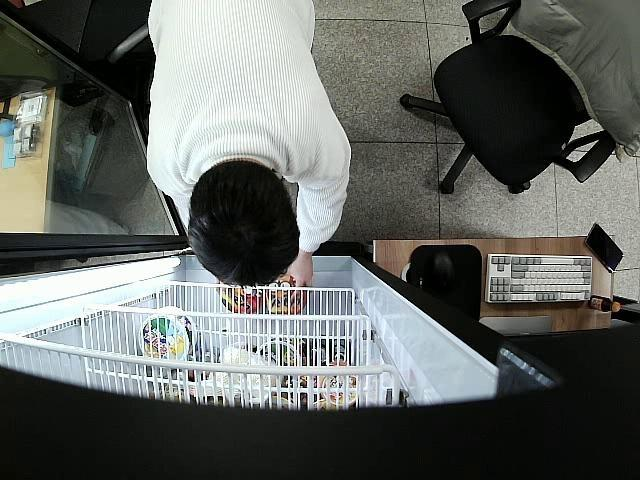05_nuguri_L: (267, 276, 308, 314)
